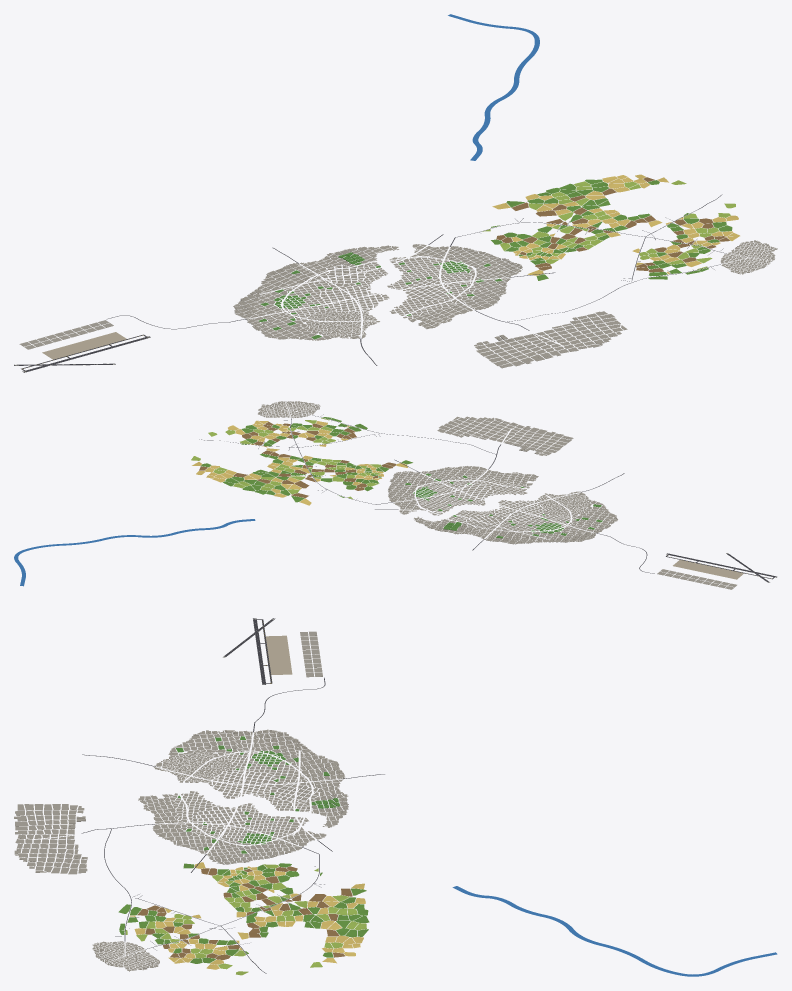
File: corneria_props.glb
The picture shows the model from 3 angles, top to bottom: view 1: azimuth 30°, elevation 25°; view 2: azimuth 150°, elevation 25°; view 3: azimuth 270°, elevation 25°; orthographic projection. The views are drawn at different scales.
Size of the model in its own units: 13181 by 170 by 11604.
